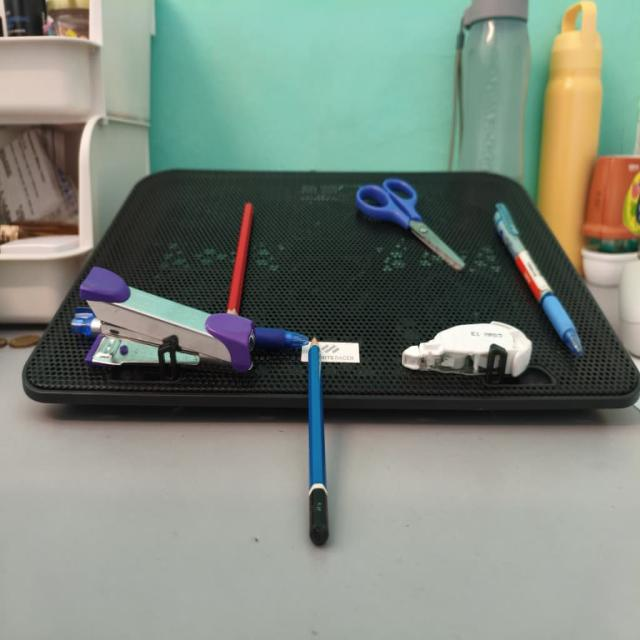pen: (494, 203, 581, 355), (255, 328, 309, 348), (71, 308, 101, 336)
pencil: (308, 338, 328, 545), (228, 202, 253, 313)
scissor: (356, 178, 464, 270)
stapler: (81, 268, 254, 374)
